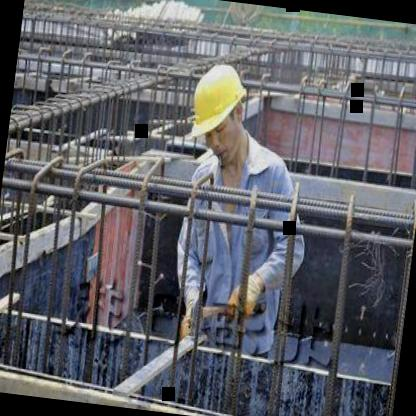helmet: (175, 47, 256, 164)
